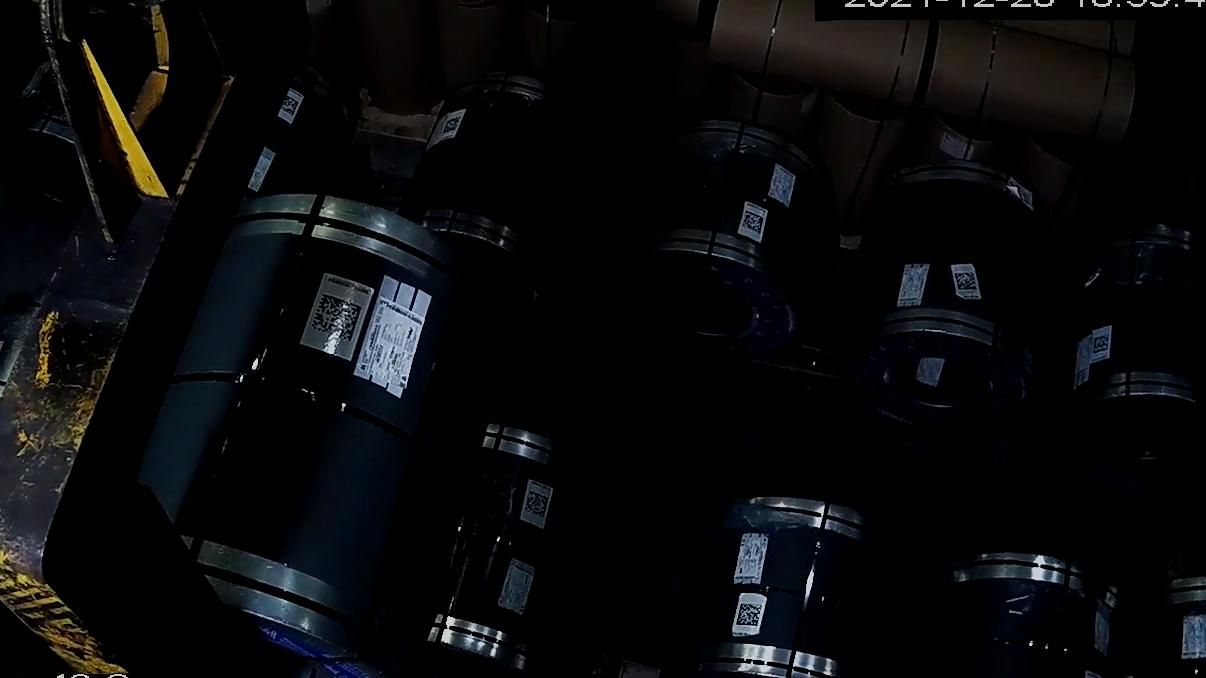data matrix: (306, 290, 367, 346), (523, 489, 552, 521), (734, 601, 765, 629), (740, 209, 768, 237), (953, 270, 980, 294), (441, 115, 465, 136), (1092, 333, 1113, 356)
